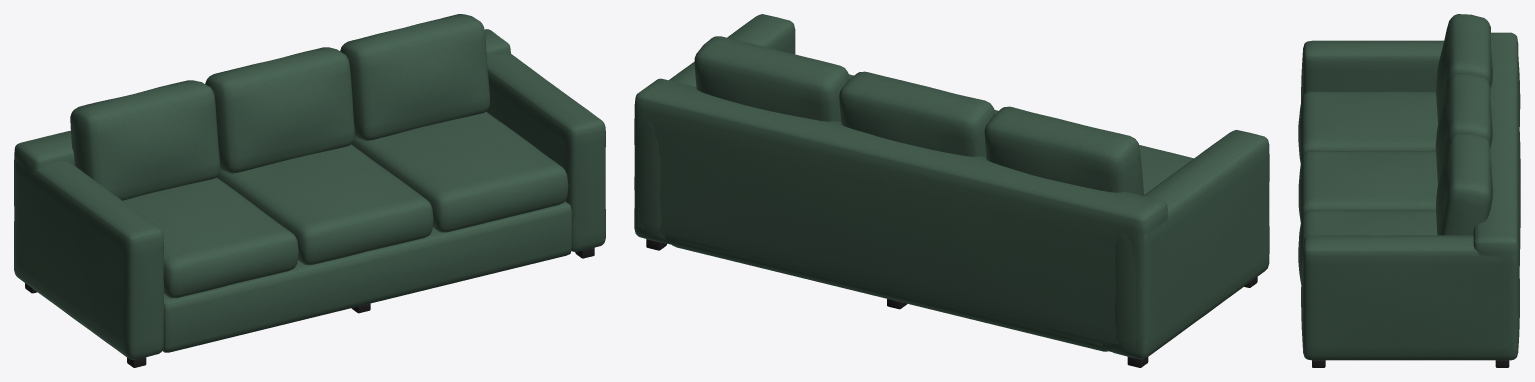
The model's file is sofa_moderno_3p_terciopelo.glb.
3 views of the same model, side by side, from view 1: azimuth 30°, elevation 25°; view 2: azimuth 150°, elevation 25°; view 3: azimuth 270°, elevation 25° (orthographic). The views are drawn at different scales.
Parts seen in each view (by area): view 1: sofa_moderno_3p_terciopelo; view 2: sofa_moderno_3p_terciopelo; view 3: sofa_moderno_3p_terciopelo.
Part boxes in pixels (x1,y1,x2,y2): sofa_moderno_3p_terciopelo: [14, 14, 605, 367]; sofa_moderno_3p_terciopelo: [634, 14, 1269, 367]; sofa_moderno_3p_terciopelo: [1298, 14, 1520, 367].
Size of the model in its own units: 2.21 by 0.8267 by 0.9809.
2 materials, 1 textured.
